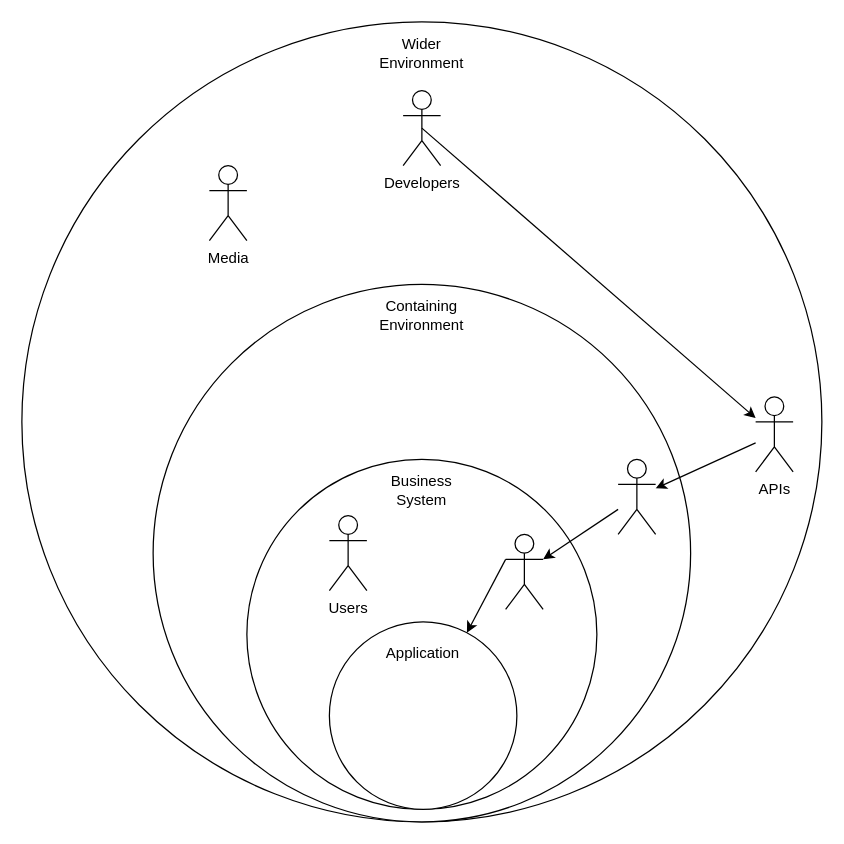
This 844x844 diagram has some shape labels left out. Here are the shapes that lost their labels. From the top down, the centre of each, then its label:
(x=636, y=496): Host
(x=523, y=571): ML Engineers
